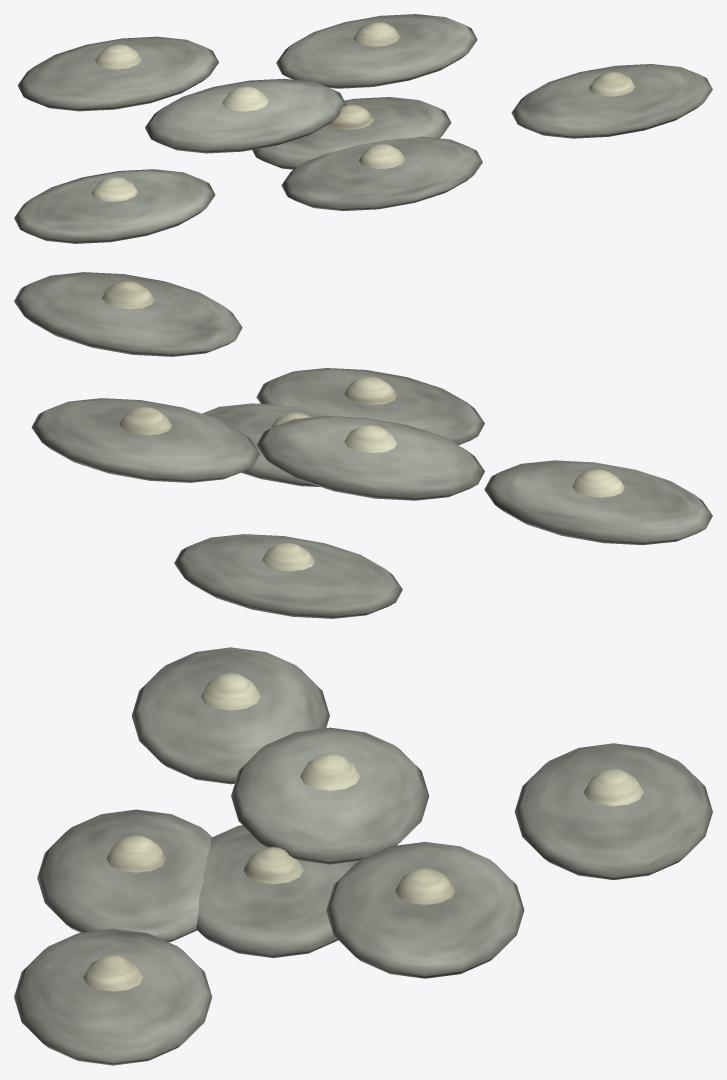
The model's file is galaxy_group.glb.
3 renders of one model, top to bottom at view 1: azimuth 30°, elevation 25°; view 2: azimuth 150°, elevation 25°; view 3: azimuth 270°, elevation 25°, orthographic. The views are drawn at different scales.
Parts seen in each view (by area): view 1: galaxy_group_textured_mesh; view 2: galaxy_group_textured_mesh; view 3: galaxy_group_textured_mesh.
Boxes of the visible parts, box(x1,y1,x2,y2) form: galaxy_group_textured_mesh: box(14, 14, 712, 243); galaxy_group_textured_mesh: box(14, 272, 712, 618); galaxy_group_textured_mesh: box(14, 647, 712, 1065).
Size of the model in its own units: 4.16 by 0.49 by 2.75.
1 material, 1 textured.
